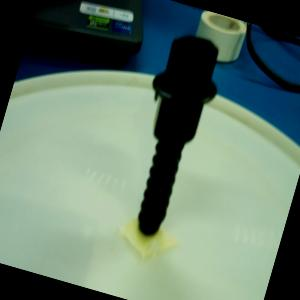parafuso: (112, 26, 231, 246), (111, 26, 232, 242)
